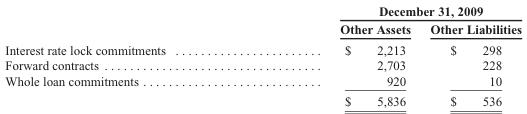table: (4, 3, 520, 108)
table column: (4, 3, 252, 108), (252, 3, 419, 108), (419, 3, 520, 108)
table column header: (4, 3, 520, 39)
table row: (4, 19, 520, 39), (4, 39, 520, 57), (4, 72, 520, 90), (4, 90, 520, 108), (4, 3, 520, 19), (4, 57, 520, 72)
table spanning cell: (252, 3, 520, 19)
